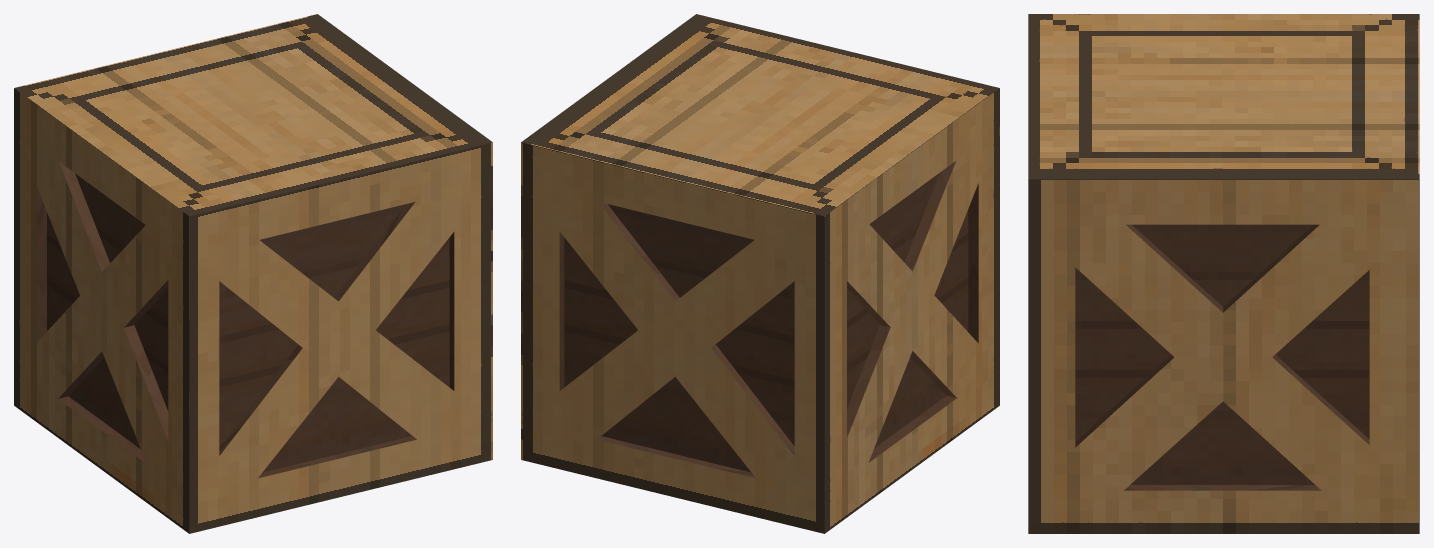
Rendered from open_box.glb.
3 renders of one model, left to right at view 1: azimuth 30°, elevation 25°; view 2: azimuth 150°, elevation 25°; view 3: azimuth 270°, elevation 25°, orthographic. The views are drawn at different scales.
Visible parts, largest first — view 1: Cube; view 2: Cube, Cube.001; view 3: Cube.
Boxes of the visible parts, x1,y1,x2,y2 form: Cube: (14, 14, 492, 533); Cube: (521, 14, 999, 533); Cube.001: (521, 142, 824, 533); Cube: (1028, 14, 1419, 533).
Bounding box in the file's own units: 2.54 × 2.54 × 2.54.
1 material, 1 textured.
